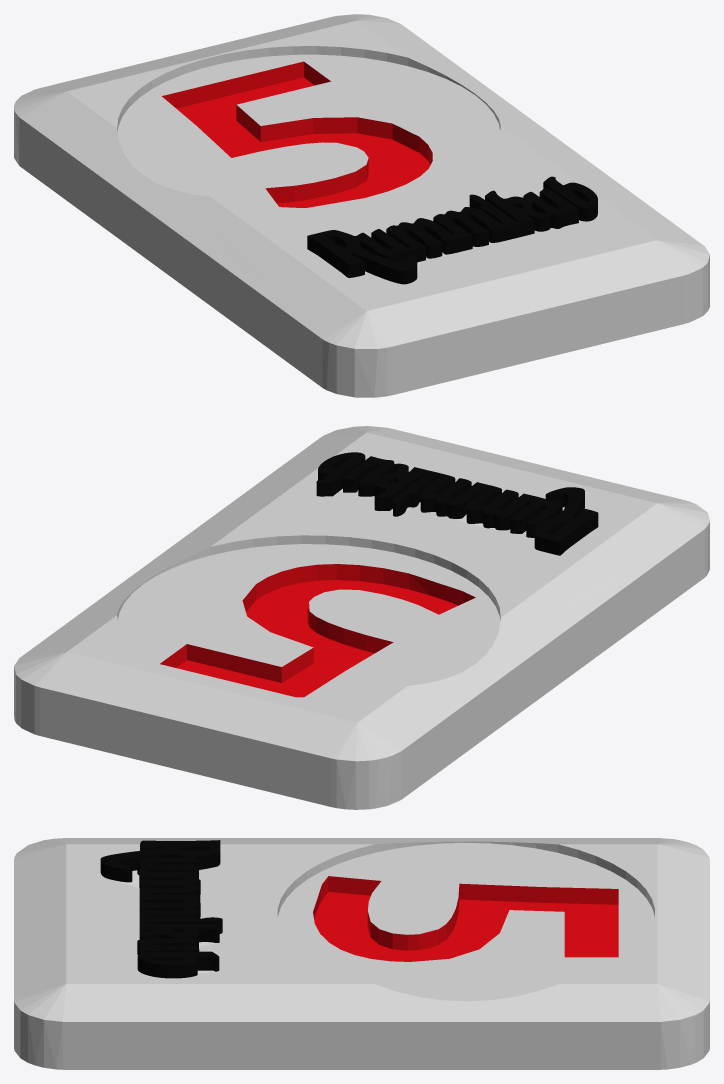
3 renders of one model, top to bottom at view 1: azimuth 30°, elevation 25°; view 2: azimuth 150°, elevation 25°; view 3: azimuth 270°, elevation 25°, orthographic.
Visible parts, largest first — view 1: Rummikub 5 Fixed, Rummikub 1 Fixed.001; view 2: Rummikub 5 Fixed, Rummikub 1 Fixed.001; view 3: Rummikub 5 Fixed, Rummikub 1 Fixed.001.
Boxes of the visible parts, box(x1,y1,x2,y2) form: Rummikub 5 Fixed: box(14, 14, 709, 397); Rummikub 1 Fixed.001: box(307, 176, 597, 284); Rummikub 5 Fixed: box(14, 426, 709, 809); Rummikub 1 Fixed.001: box(316, 452, 598, 555); Rummikub 5 Fixed: box(14, 838, 709, 1069); Rummikub 1 Fixed.001: box(100, 840, 222, 978).
Bounding box in the file's own units: 2499 × 489 × 4000.
